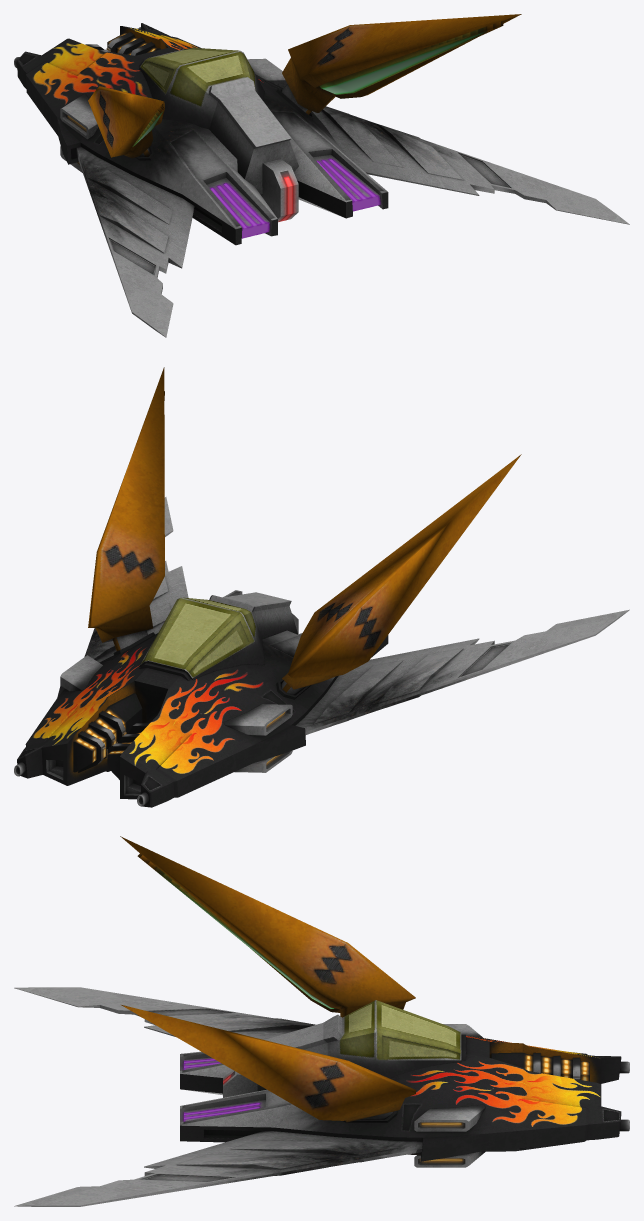
Rendered from arwing_phoenix.glb.
The picture shows the model from 3 angles, top to bottom: view 1: azimuth 30°, elevation 25°; view 2: azimuth 150°, elevation 25°; view 3: azimuth 270°, elevation 25°; orthographic projection. The views are drawn at different scales.
Parts seen in each view (by area): view 1: detail-0, gdiff1a, Rwinga, Lwinga, gdiff2a; view 2: detail-0, gdiff2a, gdiff1a, Rwinga, Lwinga; view 3: detail-0, gdiff2a, gdiff1a, Lwinga, Rwinga.
Part boxes in pixels (x1=…): detail-0: x1=14, y1=23, x2=388, y2=245; gdiff1a: x1=281, y1=14, x2=521, y2=114; Rwinga: x1=76, y1=146, x2=194, y2=337; Lwinga: x1=312, y1=106, x2=629, y2=224; gdiff2a: x1=88, y1=86, x2=164, y2=158; detail-0: x1=14, y1=590, x2=388, y2=807; gdiff2a: x1=281, y1=454, x2=521, y2=695; gdiff1a: x1=88, y1=367, x2=164, y2=651; Rwinga: x1=295, y1=609, x2=629, y2=734; Lwinga: x1=84, y1=497, x2=188, y2=662; detail-0: x1=180, y1=1000, x2=629, y2=1167; gdiff2a: x1=120, y1=836, x2=415, y2=1017; gdiff1a: x1=121, y1=1005, x2=415, y2=1122; Lwinga: x1=14, y1=1131, x2=422, y2=1206; Rwinga: x1=14, y1=987, x2=315, y2=1039.
Size of the model in its own units: 25.62 by 11.38 by 30.56.
1 material, 1 textured.
